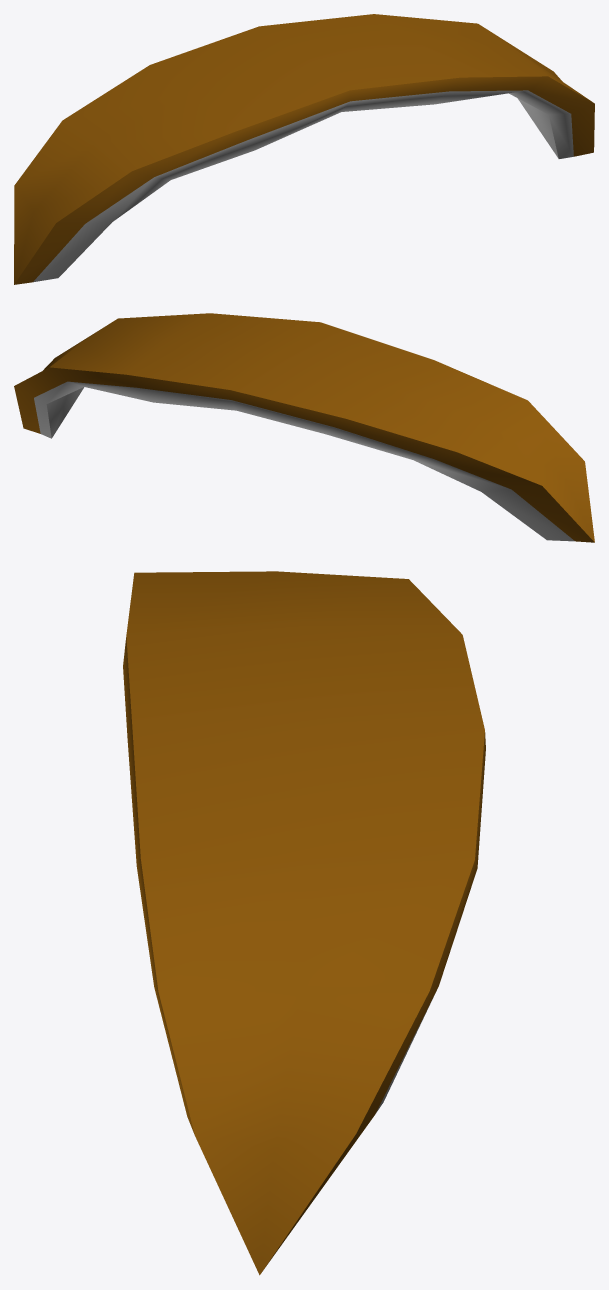
Rendered from OrangePeel.fbx.
3 renders of one model, top to bottom at view 1: azimuth 30°, elevation 25°; view 2: azimuth 150°, elevation 25°; view 3: azimuth 270°, elevation 25°, orthographic. The views are drawn at different scales.
Visible parts, largest first — view 1: OrangePeel; view 2: OrangePeel; view 3: OrangePeel.
Boxes of the visible parts, x1=… form: OrangePeel: x1=14, y1=14, x2=594, y2=284; OrangePeel: x1=14, y1=313, x2=594, y2=542; OrangePeel: x1=123, y1=571, x2=485, y2=1275.
Size of the model in its own units: 245 by 61.99 by 68.34.
